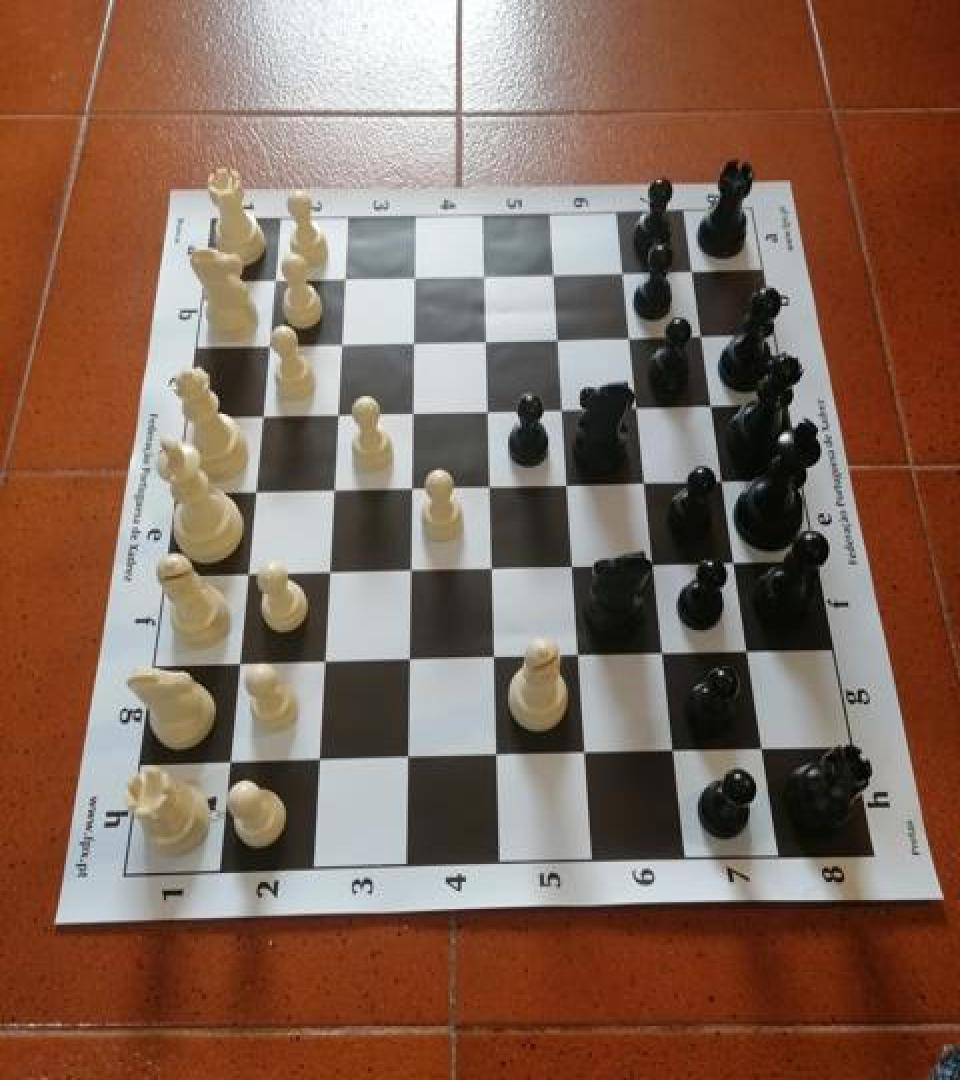xcorner: (722, 545, 754, 582), (660, 734, 692, 771), (392, 741, 424, 778), (679, 253, 711, 289), (609, 254, 641, 290), (539, 256, 571, 292), (469, 258, 501, 294), (398, 259, 430, 295), (328, 260, 360, 296), (257, 262, 289, 298), (688, 317, 720, 353), (616, 320, 648, 356), (543, 320, 575, 356), (470, 323, 502, 359), (397, 324, 429, 360), (324, 325, 356, 361), (251, 328, 283, 364), (698, 388, 730, 424), (623, 389, 655, 425), (548, 392, 580, 428), (472, 392, 504, 428), (396, 395, 428, 431), (320, 396, 352, 432), (244, 398, 276, 434), (710, 464, 742, 500), (631, 466, 663, 502), (553, 467, 585, 503), (474, 469, 506, 505), (395, 470, 427, 506), (316, 472, 348, 508), (237, 475, 269, 511), (640, 548, 672, 584), (558, 549, 590, 585), (476, 551, 508, 587), (394, 554, 426, 590), (312, 556, 344, 592), (229, 558, 261, 594), (735, 634, 767, 670), (650, 637, 682, 673), (564, 639, 596, 675), (479, 641, 511, 677), (393, 644, 425, 680), (307, 646, 339, 682), (221, 648, 253, 684), (749, 731, 781, 767), (571, 737, 603, 773), (481, 739, 513, 775), (302, 744, 334, 780), (212, 746, 244, 782)
